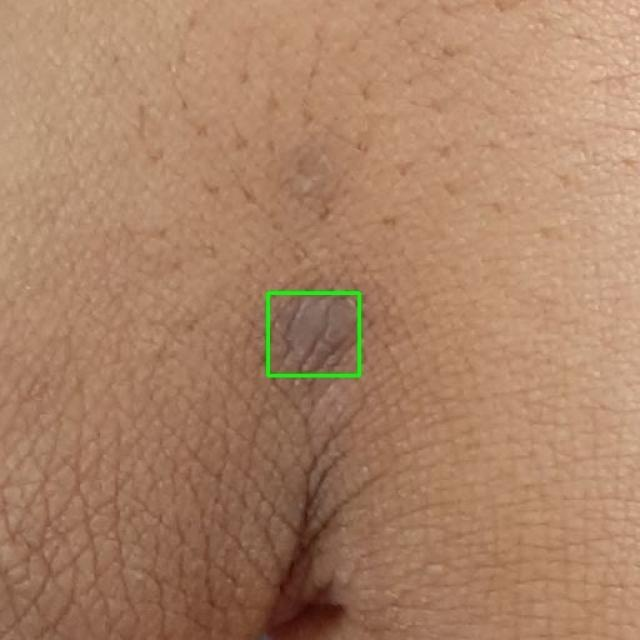Scabies: (268, 292, 359, 375)
